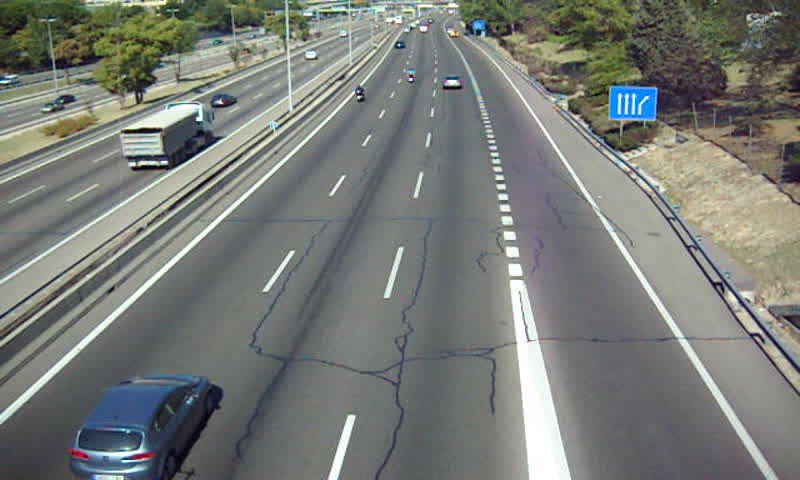car: (70, 377, 213, 480), (440, 75, 462, 90), (394, 42, 406, 51)
motorcycle: (353, 87, 366, 107), (405, 70, 416, 86)
